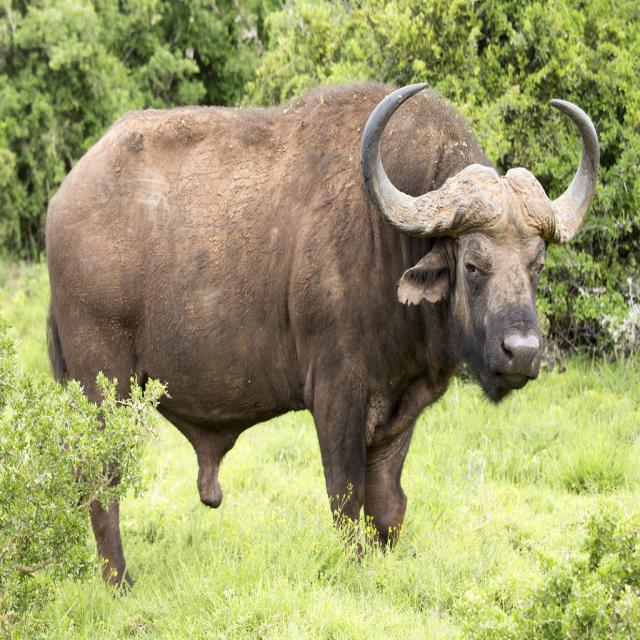Cattle: (45, 82, 599, 598)
